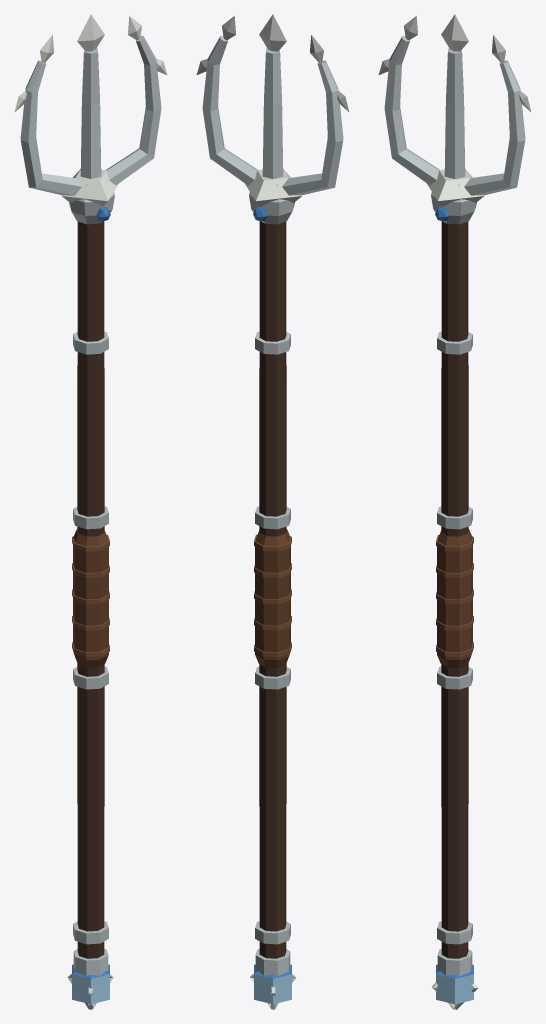
File: weapon_trident_sea.glb
The picture shows the model from 3 angles, left to right: view 1: azimuth 30°, elevation 25°; view 2: azimuth 150°, elevation 25°; view 3: azimuth 330°, elevation 25°; orthographic projection.
Visible parts, largest first — view 1: weapon_trident_sea; view 2: weapon_trident_sea; view 3: weapon_trident_sea.
Part boxes in pixels (<box>): weapon_trident_sea: <box>14,14,167,1009</box>; weapon_trident_sea: <box>196,14,349,1009</box>; weapon_trident_sea: <box>378,14,531,1009</box>.
Bounding box in the file's own units: 0.44 × 2.73 × 0.1699.
